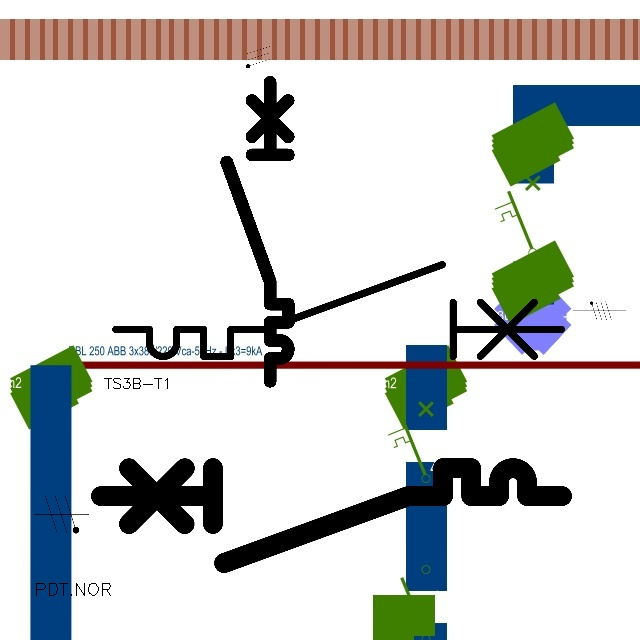interruptor_termomagnetico: (88, 456, 573, 574), (104, 253, 573, 368), (219, 74, 296, 388)
